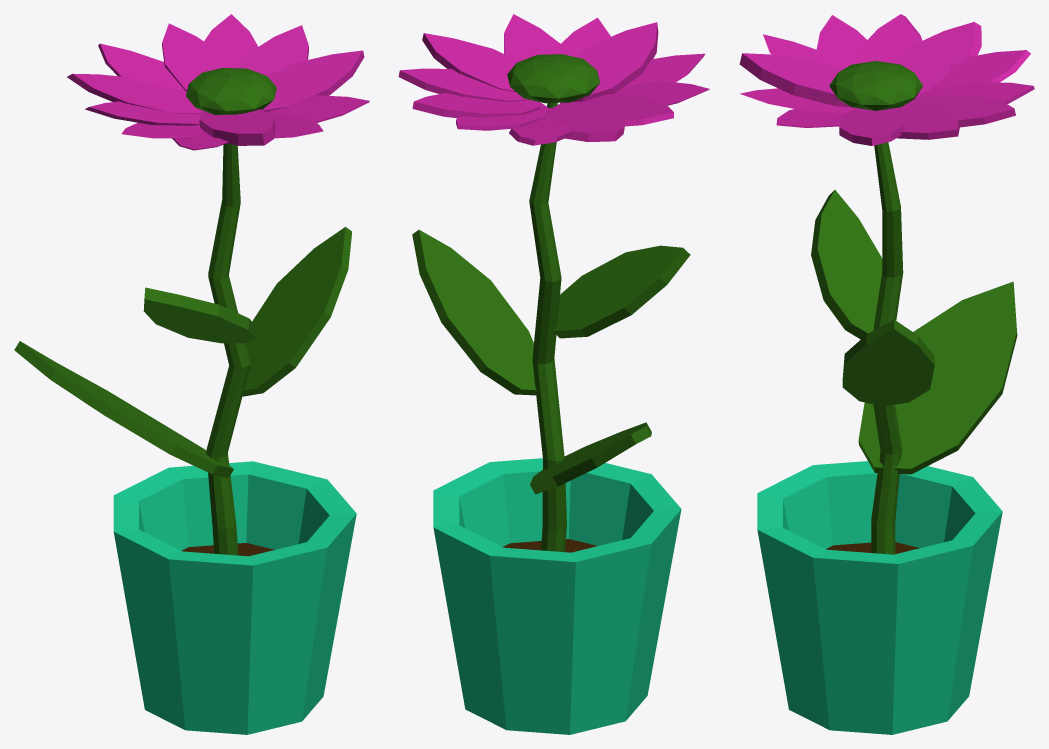
File: Blume.fbx
The picture shows the model from 3 angles, left to right: view 1: azimuth 30°, elevation 25°; view 2: azimuth 150°, elevation 25°; view 3: azimuth 270°, elevation 25°; orthographic projection. The views are drawn at different scales.
Parts seen in each view (by area): view 1: Cylinder, Circle, Cylinder.001, Circle.001, Circle.015, Icosphere, Circle.007, Circle.002, Circle.005, Circle.011, Circle.006, Circle.003 (+6 smaller); view 2: Cylinder, Circle, Cylinder.001, Circle.015, Icosphere, Circle.011, Circle.007, Circle.001, Circle.002, Circle.005, Circle.006, Circle.014 (+6 smaller); view 3: Cylinder, Circle.001, Circle.015, Cylinder.001, Circle, Icosphere, Circle.011, Circle.002, Circle.005, Circle.003, Circle.007, Circle.014 (+6 smaller).
Part boxes in pixels (x1,y1,x2,y2): Cylinder: (113, 461, 356, 734); Circle: (242, 227, 351, 396); Cylinder.001: (206, 143, 250, 555); Circle.001: (14, 341, 233, 478); Circle.015: (143, 287, 256, 343); Icosphere: (186, 68, 276, 114); Circle.007: (262, 50, 364, 111); Circle.002: (67, 73, 202, 113); Circle.005: (197, 14, 258, 76); Circle.011: (199, 109, 275, 145); Circle.006: (237, 25, 308, 75); Circle.003: (98, 43, 186, 91); Cylinder: (433, 458, 681, 734); Circle: (412, 229, 536, 395); Cylinder.001: (529, 103, 566, 552); Circle.015: (553, 245, 690, 338); Icosphere: (507, 54, 599, 103); Circle.011: (572, 22, 658, 101); Circle.007: (422, 33, 518, 91); Circle.001: (530, 422, 651, 494); Circle.002: (546, 102, 624, 141); Circle.005: (412, 93, 540, 118); Circle.006: (398, 68, 529, 101); Circle.014: (560, 94, 673, 126); Cylinder: (757, 461, 1002, 734); Circle.001: (858, 281, 1017, 474); Circle.015: (811, 190, 882, 339); Cylinder.001: (871, 142, 903, 554); Circle: (842, 319, 934, 406); Icosphere: (829, 61, 922, 110); Circle.011: (739, 53, 850, 106); Circle.002: (892, 22, 981, 93); Circle.005: (905, 94, 1015, 127); Circle.003: (931, 50, 1030, 89); Circle.007: (839, 108, 904, 145); Circle.014: (855, 14, 922, 63).
Bounding box in the file's own units: 19.8 × 41.91 × 17.93.
